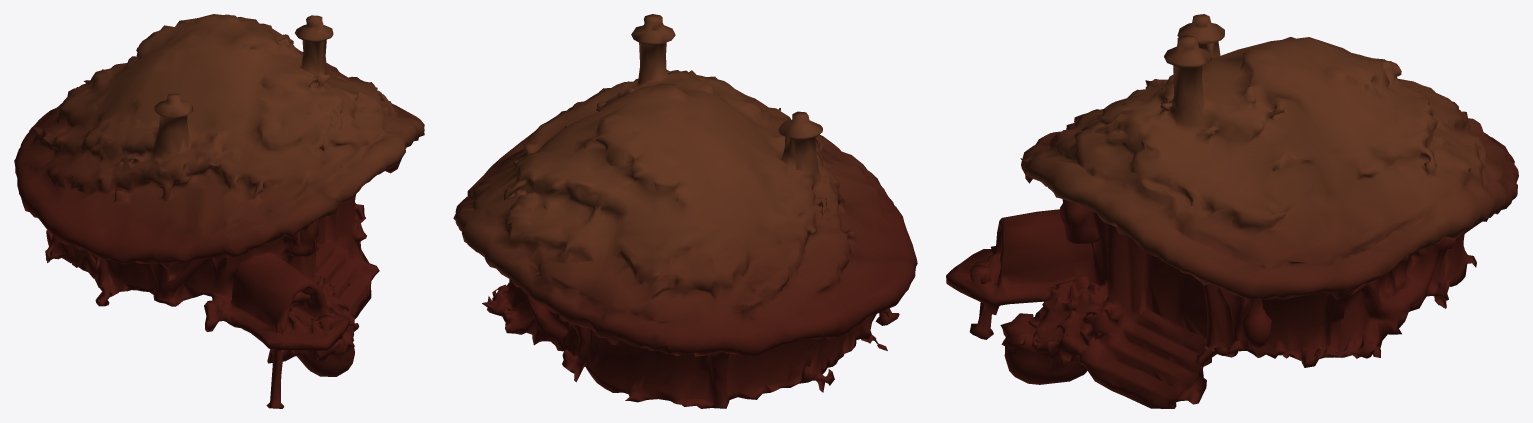
Rendered from moss-cottage.glb.
3 views of the same model, side by side, from view 1: azimuth 30°, elevation 25°; view 2: azimuth 150°, elevation 25°; view 3: azimuth 270°, elevation 25° (orthographic). The views are drawn at different scales.
Visible parts, largest first — view 1: moss-cottage; view 2: moss-cottage; view 3: moss-cottage.
Part boxes in pixels (box(x1,y1,x2,y2)): moss-cottage: box(14, 14, 424, 408); moss-cottage: box(453, 14, 917, 408); moss-cottage: box(946, 14, 1518, 408).
Size of the model in its own units: 0.0324 by 0.0259 by 0.0362.
